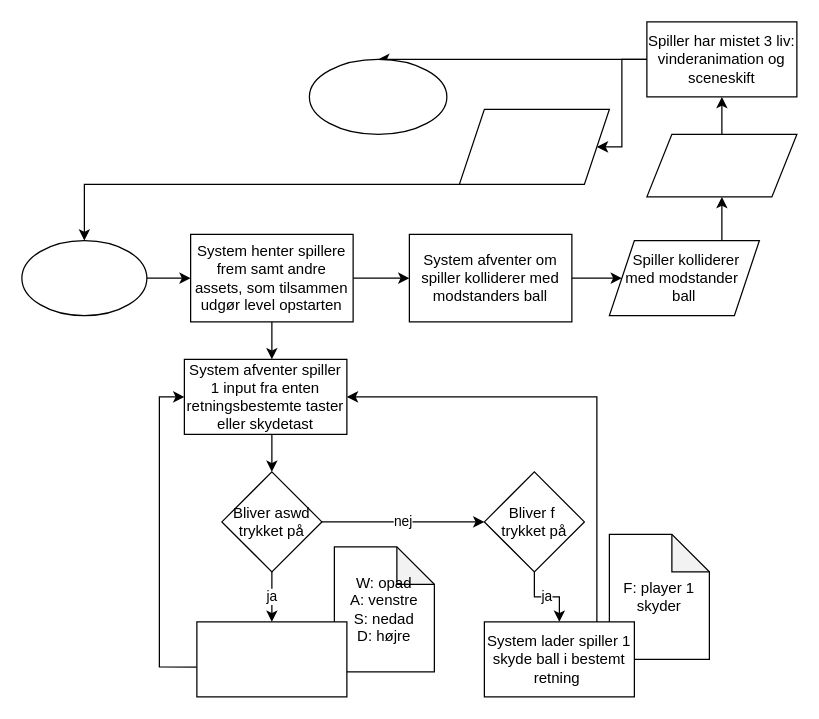
Image size: 819x719. Some labels were removed from this diagram. Each missing label, with the centre of its shape:
"Hvis level 1/5: Sceneskift til startskærm" goes at [377,96].
"Hvis level 2-4: Sceneskift til næste level" goes at [533,146].
"output: spilleres liv vises" goes at [721,165].
"Spil startet" goes at [84,277].
"System bevæger spiller 1 i bestemt retning" goes at [271,659].
